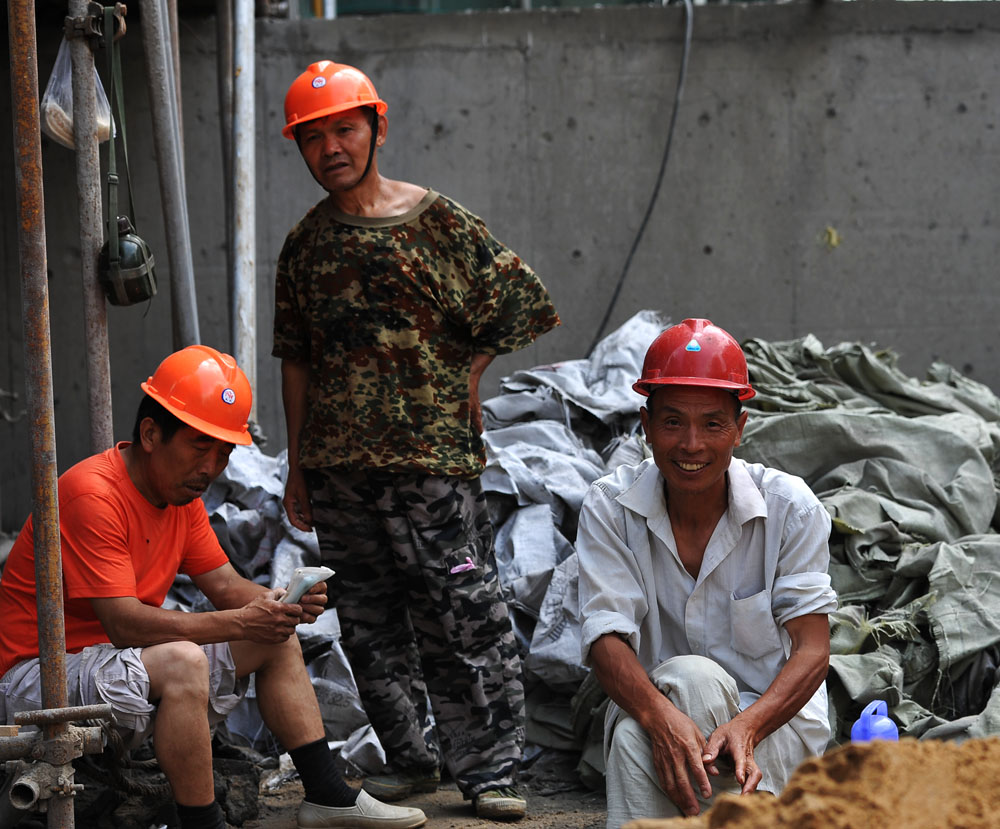safetyhat: (263, 49, 554, 734), (582, 306, 851, 757), (21, 325, 253, 745)
